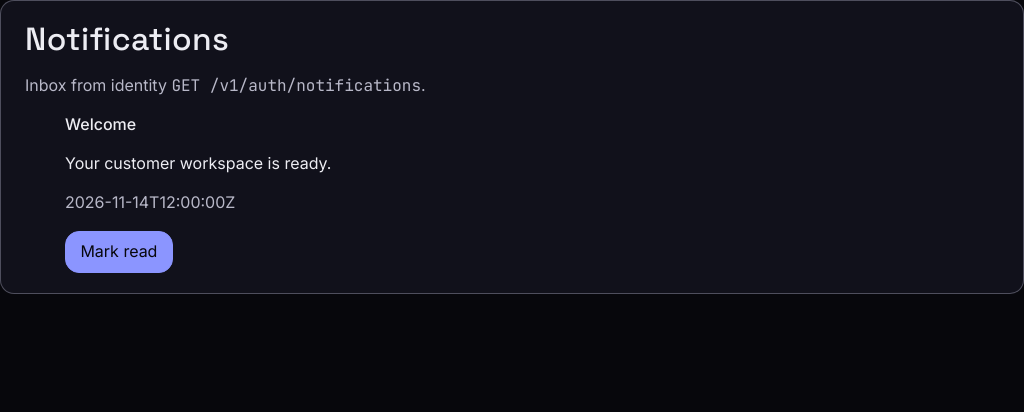
customer profile + notifications › mark-read soft failure shows yellow warning — list stays
Click the button with test id "mark-read-ntf-1". click: (119,252)
box: [65,230,173,273]
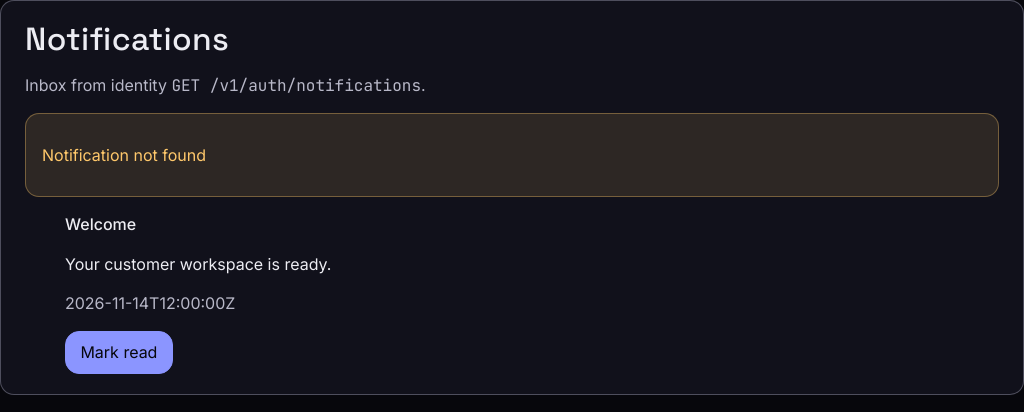
Expected: the list with test id "customer-notifications-list" is shown, [65,214,331,374]
Expected: the message with test id "notification-error" reads "Notification not found", [42,145,206,165]
